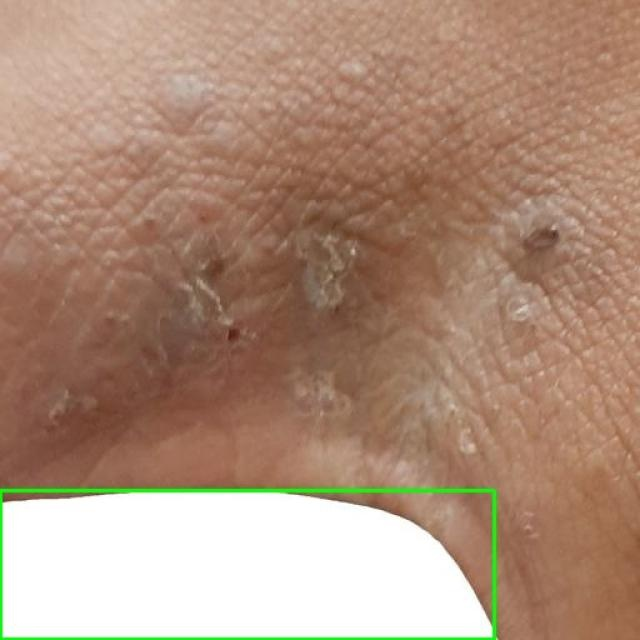Scabies: (0, 490, 495, 639)
